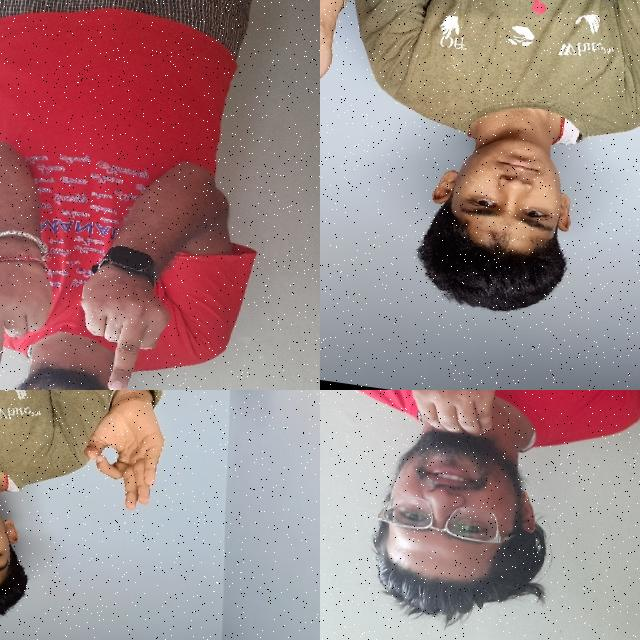Chin Flick: (343, 390, 559, 629)
Dulya: (320, 0, 360, 122)
Middle Finger: (60, 233, 185, 390), (0, 210, 72, 390)
Okay: (70, 390, 177, 525)
